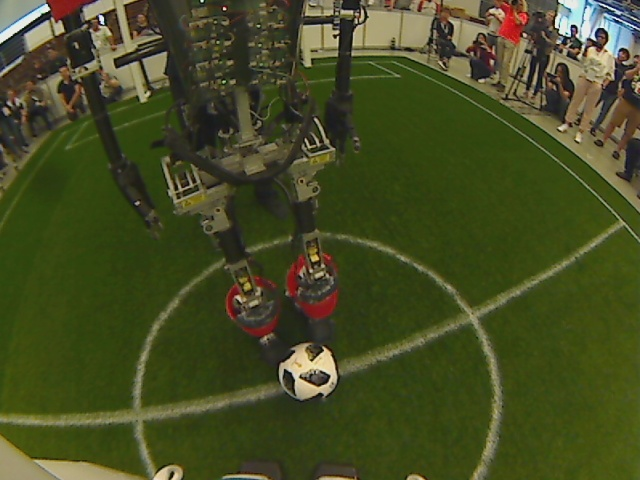ball: (273, 340, 342, 404)
